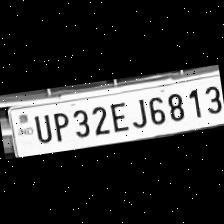1: (183, 86, 204, 119)
2: (87, 101, 111, 137)
3: (67, 104, 91, 140), (199, 80, 223, 116)
6: (144, 91, 168, 127)
8: (161, 88, 186, 124)
E: (105, 97, 130, 134)
J: (126, 95, 148, 130)
P: (48, 108, 72, 143)
U: (30, 110, 53, 146)
